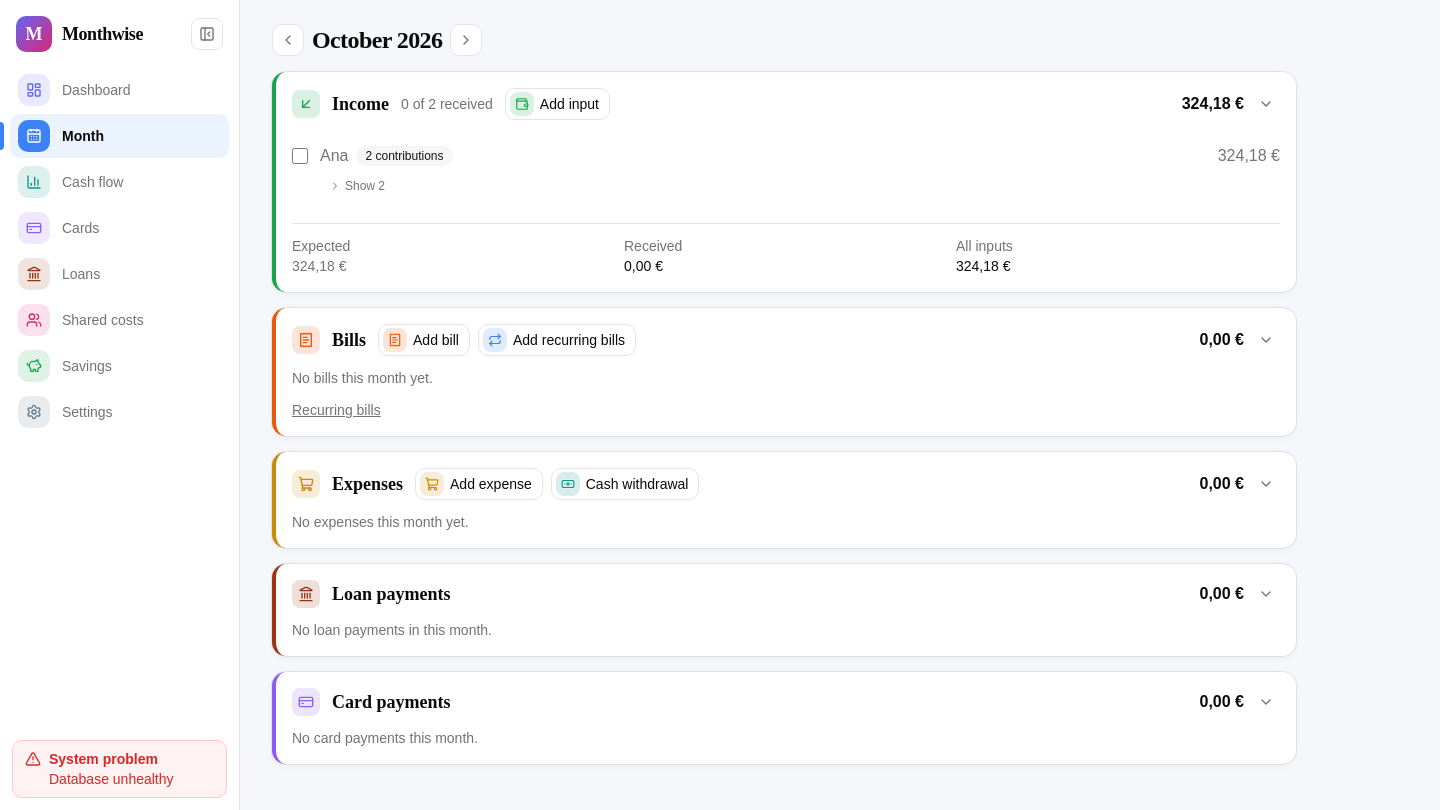
Contributions grouped by contributor › shows one line with the summed amount that opens the single contributions
The width and height of the screenshot is (1440, 810).
What coordinates should you click on to do the following:
click the button "Show 2"
I would click on:
 (357, 186)
Its box is [320,174,394,198].
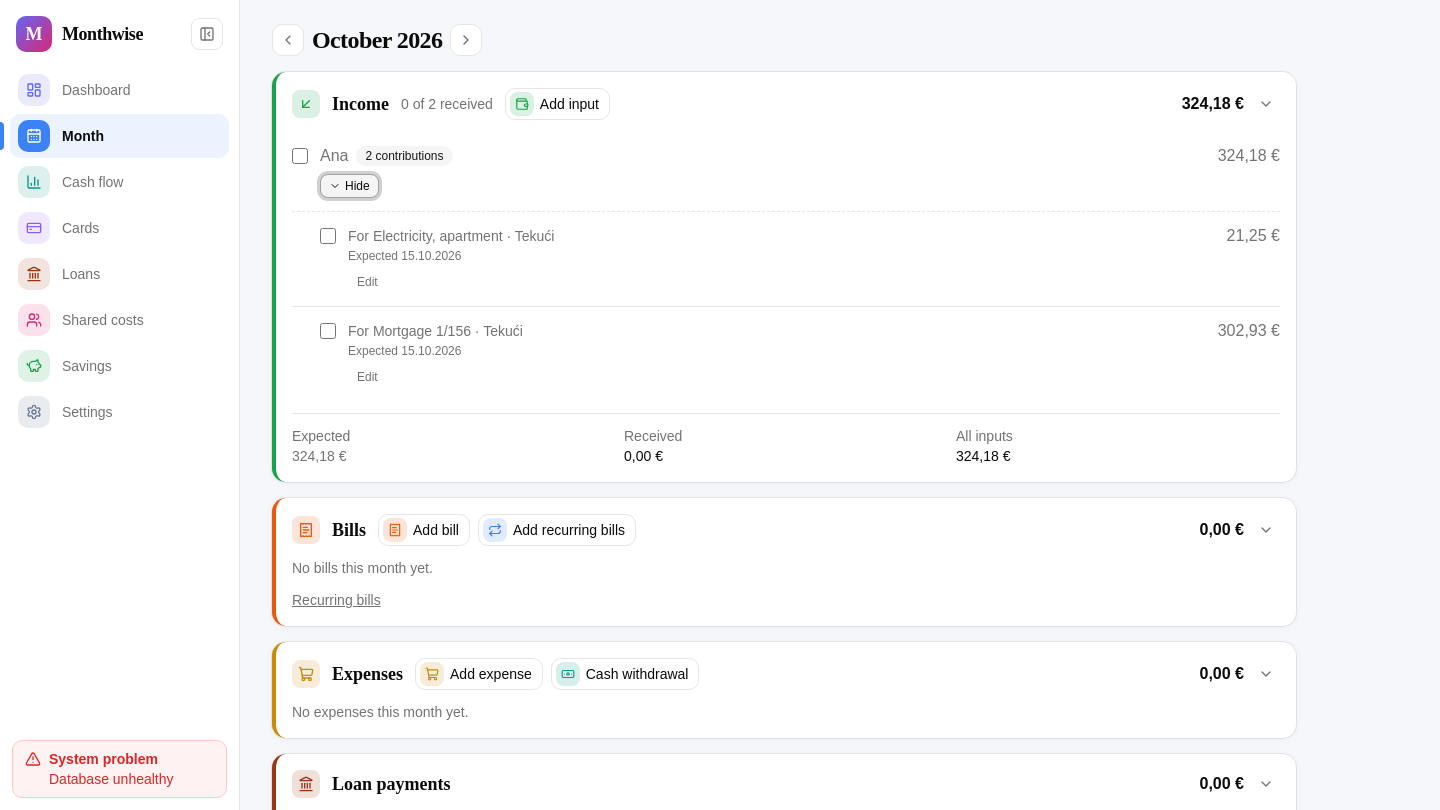
Expected: the checkbox named "Received: Ana, Electricity" is shown, [320,228,336,244]
